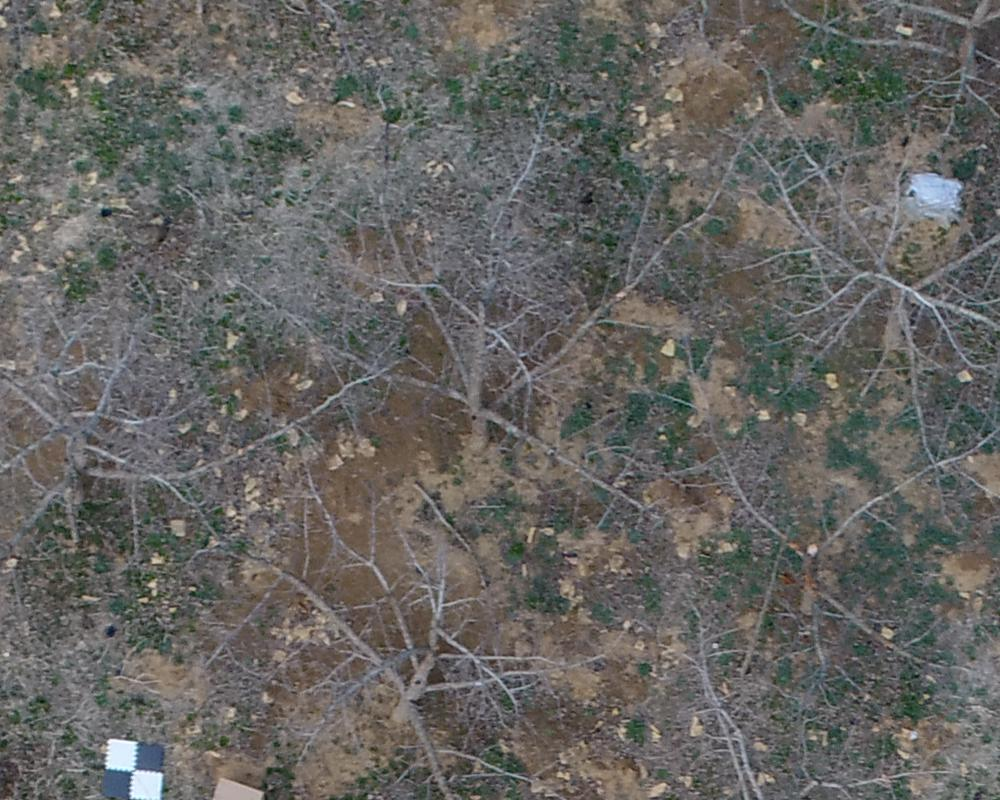apple: (271, 116, 694, 520), (10, 247, 358, 563), (733, 76, 990, 466), (227, 495, 558, 790), (646, 629, 912, 790)
